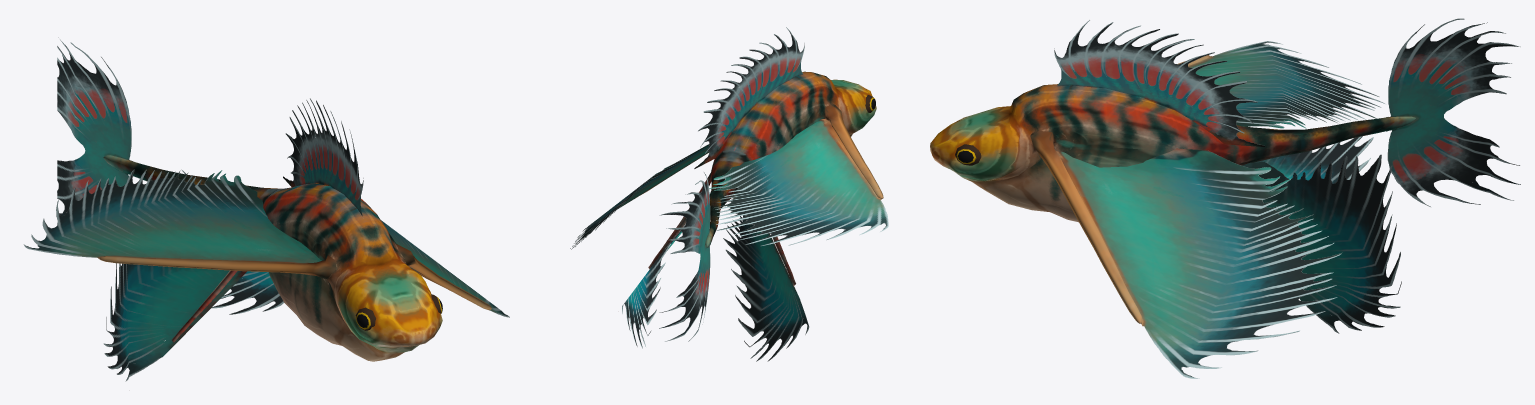
The model's file is fish_000012.obj.
3 views of the same model, side by side, from view 1: azimuth 30°, elevation 25°; view 2: azimuth 150°, elevation 25°; view 3: azimuth 270°, elevation 25° (orthographic). The views are drawn at different scales.
Visible parts, largest first — view 1: flyingFish_low_StingrayPBS1_0; view 2: flyingFish_low_StingrayPBS1_0; view 3: flyingFish_low_StingrayPBS1_0.
Part boxes in pixels (x1,y1,x2,y2): flyingFish_low_StingrayPBS1_0: (23, 37, 509, 381); flyingFish_low_StingrayPBS1_0: (570, 27, 888, 361); flyingFish_low_StingrayPBS1_0: (930, 18, 1520, 378).
Size of the model in its own units: 16.98 by 11.65 by 19.89.
Materials: 1 (1 with a texture image).
